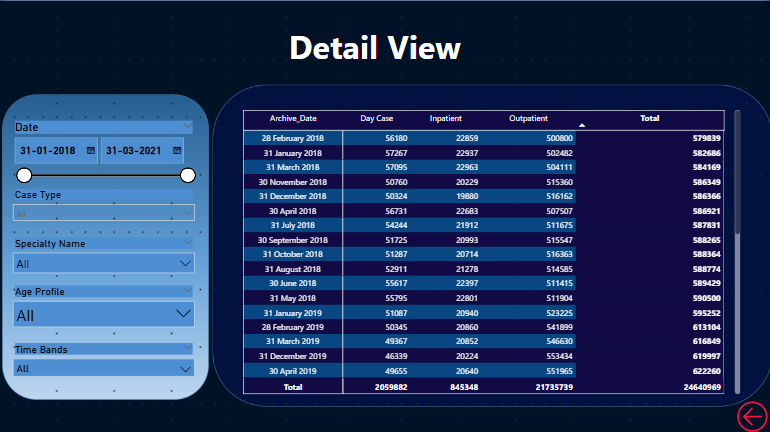

The page's visual inventory and layout, read from the dashboard file:
{"tool":"powerbi","page":{"name":"Detail","canvas":[1280,720],"ordinal":1},"visuals":[{"type":"slicer","fields":{"Values":["All_data.Archive_Date"]},"box":[16,192,320,160],"z":0},{"type":"slicer","fields":{"Values":["All_data.Case_Type"]},"box":[16,304,320,96],"z":1000},{"type":"slicer","fields":{"Values":["All_data.Specialty_Name"]},"box":[16,384,320,80],"z":2000},{"type":"textbox","box":[16,32,1216,96],"z":3000},{"type":"slicer","fields":{"Values":["All_data.Age_Profile"]},"box":[16,464,320,80],"z":4000},{"type":"slicer","fields":{"Values":["All_data.Time_Bands"]},"box":[16,560,320,96],"z":5000},{"type":"pivotTable","fields":{"Rows":["All_data.Archive_Date","All_data.Specialty_Name","All_data.Age_Profile","All_data.Time_Bands"],"Values":["Sum(All_data.Total)"],"Columns":["All_data.Case_Type"]},"box":[400,176,832,480],"z":6000},{"type":"actionButton","box":[1216,656,64,64],"z":7000}]}

Visuals, with their boxes in screenshot pixels (x1, y1, x2, y2), scaled from the page's 1280x720 canvas onto the 770x432 screenshot:
slicer - All_data.Archive_Date: {"left": 10, "top": 115, "right": 202, "bottom": 211}
slicer - All_data.Case_Type: {"left": 10, "top": 182, "right": 202, "bottom": 240}
slicer - All_data.Specialty_Name: {"left": 10, "top": 230, "right": 202, "bottom": 278}
textbox: {"left": 10, "top": 19, "right": 741, "bottom": 77}
slicer - All_data.Age_Profile: {"left": 10, "top": 278, "right": 202, "bottom": 326}
slicer - All_data.Time_Bands: {"left": 10, "top": 336, "right": 202, "bottom": 394}
pivotTable - All_data.Archive_Date x All_data.Specialty_Name: {"left": 241, "top": 106, "right": 741, "bottom": 394}
actionButton: {"left": 732, "top": 394, "right": 769, "bottom": 431}
